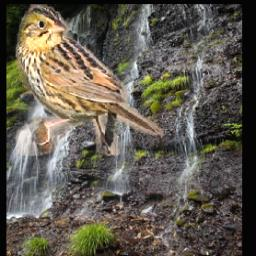Sparrow: (15, 4, 163, 156)
